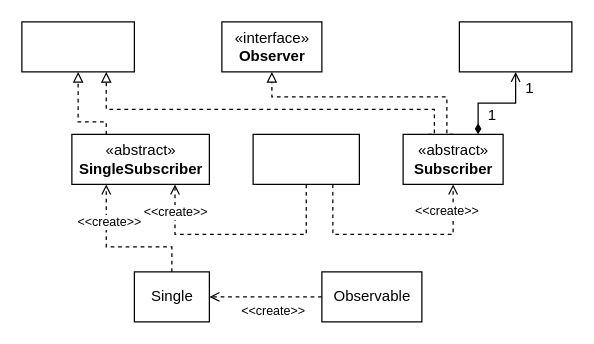
Image size: 594x344. Some labels were removed from this diagram. Here are the shapes that lost their labels. From the top down, the centre of each, then its label:
At (x=77, y=46): "«interface» Subscription".
At (x=515, y=46): "«interface» Producer".
At (x=305, y=158): "Completable".
